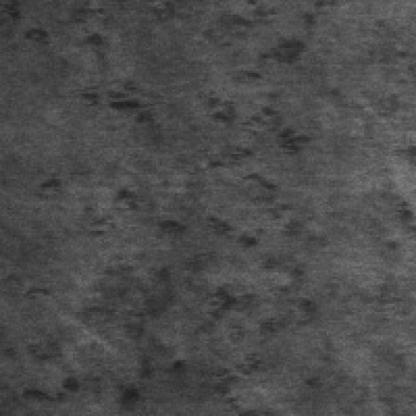rolled-in_scale: (10, 164, 285, 412), (64, 63, 314, 218)
